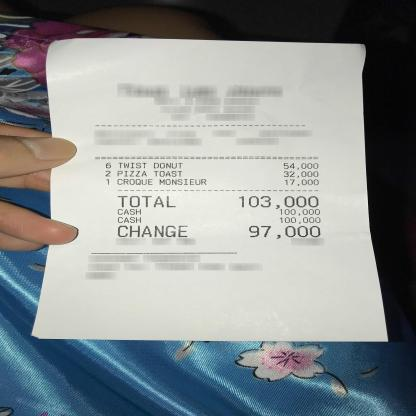receipts: (60, 45, 352, 298)
